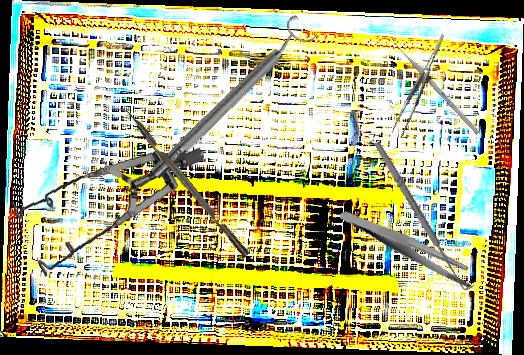Chopper: (111, 98, 250, 265)
Dressing Forceps: (338, 179, 480, 315)
Fixation Ring: (141, 13, 319, 186)
Hook Surgical: (371, 136, 476, 295)
Pusher: (389, 37, 481, 136)
Speculum: (3, 129, 208, 293)
Tissue Forceps: (381, 33, 462, 139)
